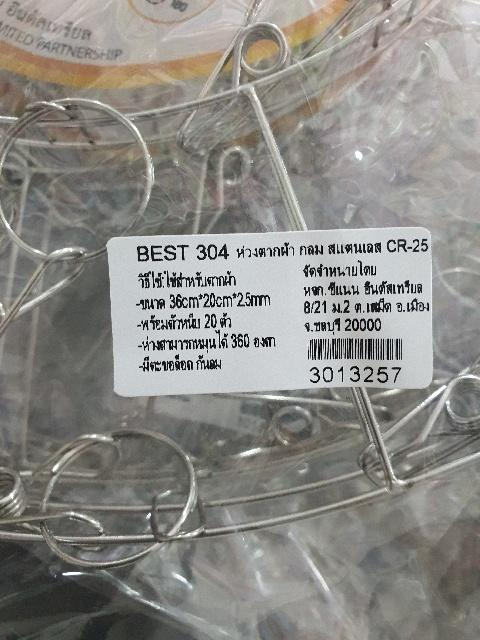Barcode: (300, 334, 409, 385)
